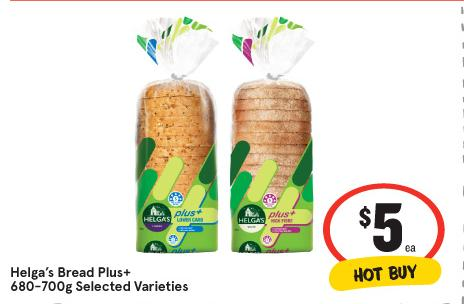description_block: (9, 262, 191, 299)
price_main: (344, 193, 434, 256)
product_image_block: (116, 13, 326, 258)
promo_text_block: (339, 261, 435, 288)
